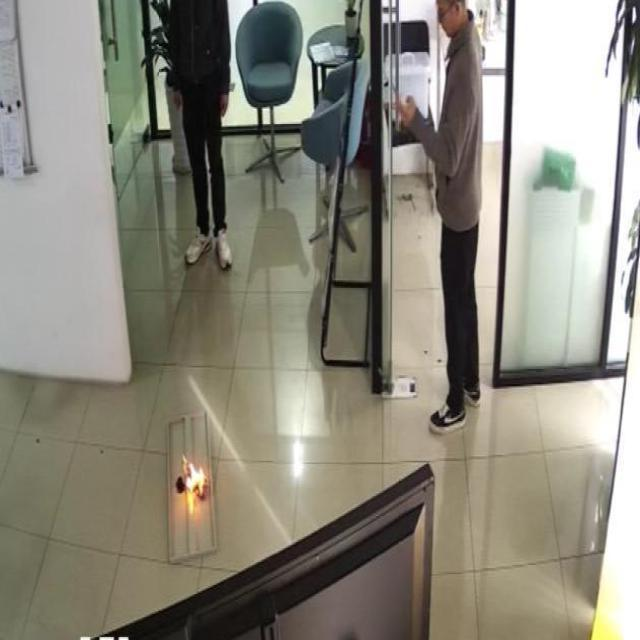smoke: (180, 460, 208, 498)
